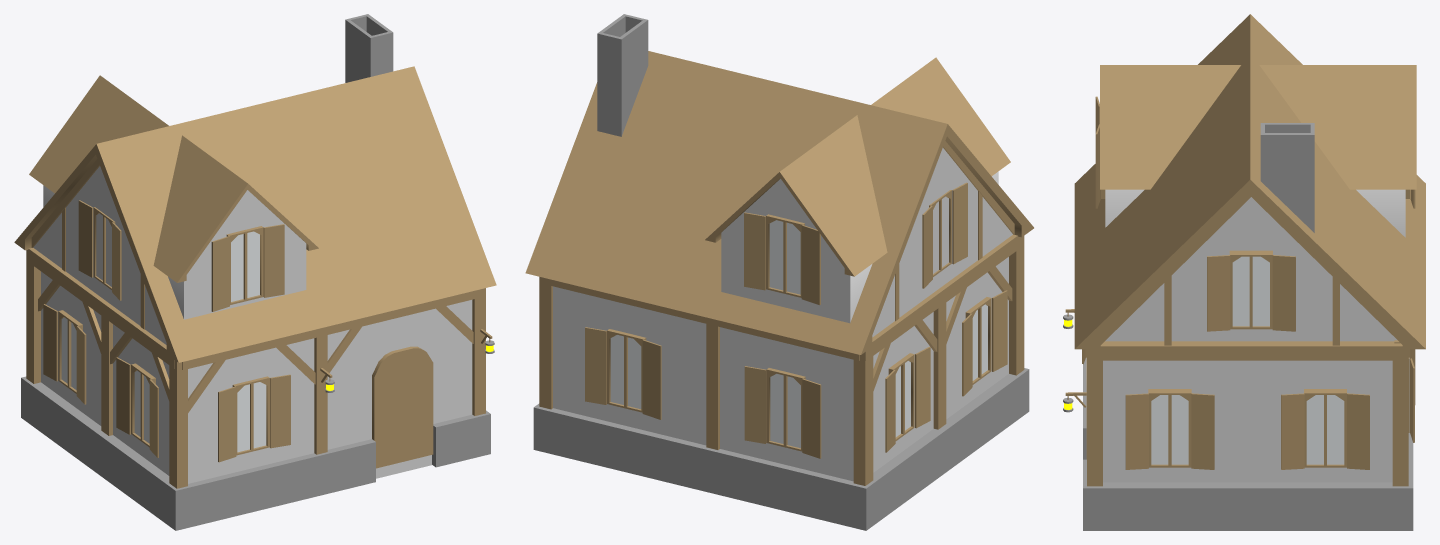
File: house1.glb
3 views of the same model, side by side, from view 1: azimuth 30°, elevation 25°; view 2: azimuth 150°, elevation 25°; view 3: azimuth 270°, elevation 25° (orthographic). The views are drawn at different scales.
Parts seen in each view (by area): view 1: Null_1; view 2: Null_1; view 3: Null_1.
Part boxes in pixels (x1,y1,x2,y2): Null_1: (14,14,496,530); Null_1: (525,14,1033,530); Null_1: (1063,14,1425,530).
Size of the model in its own units: 0.9147 by 0.9992 by 0.8442.
